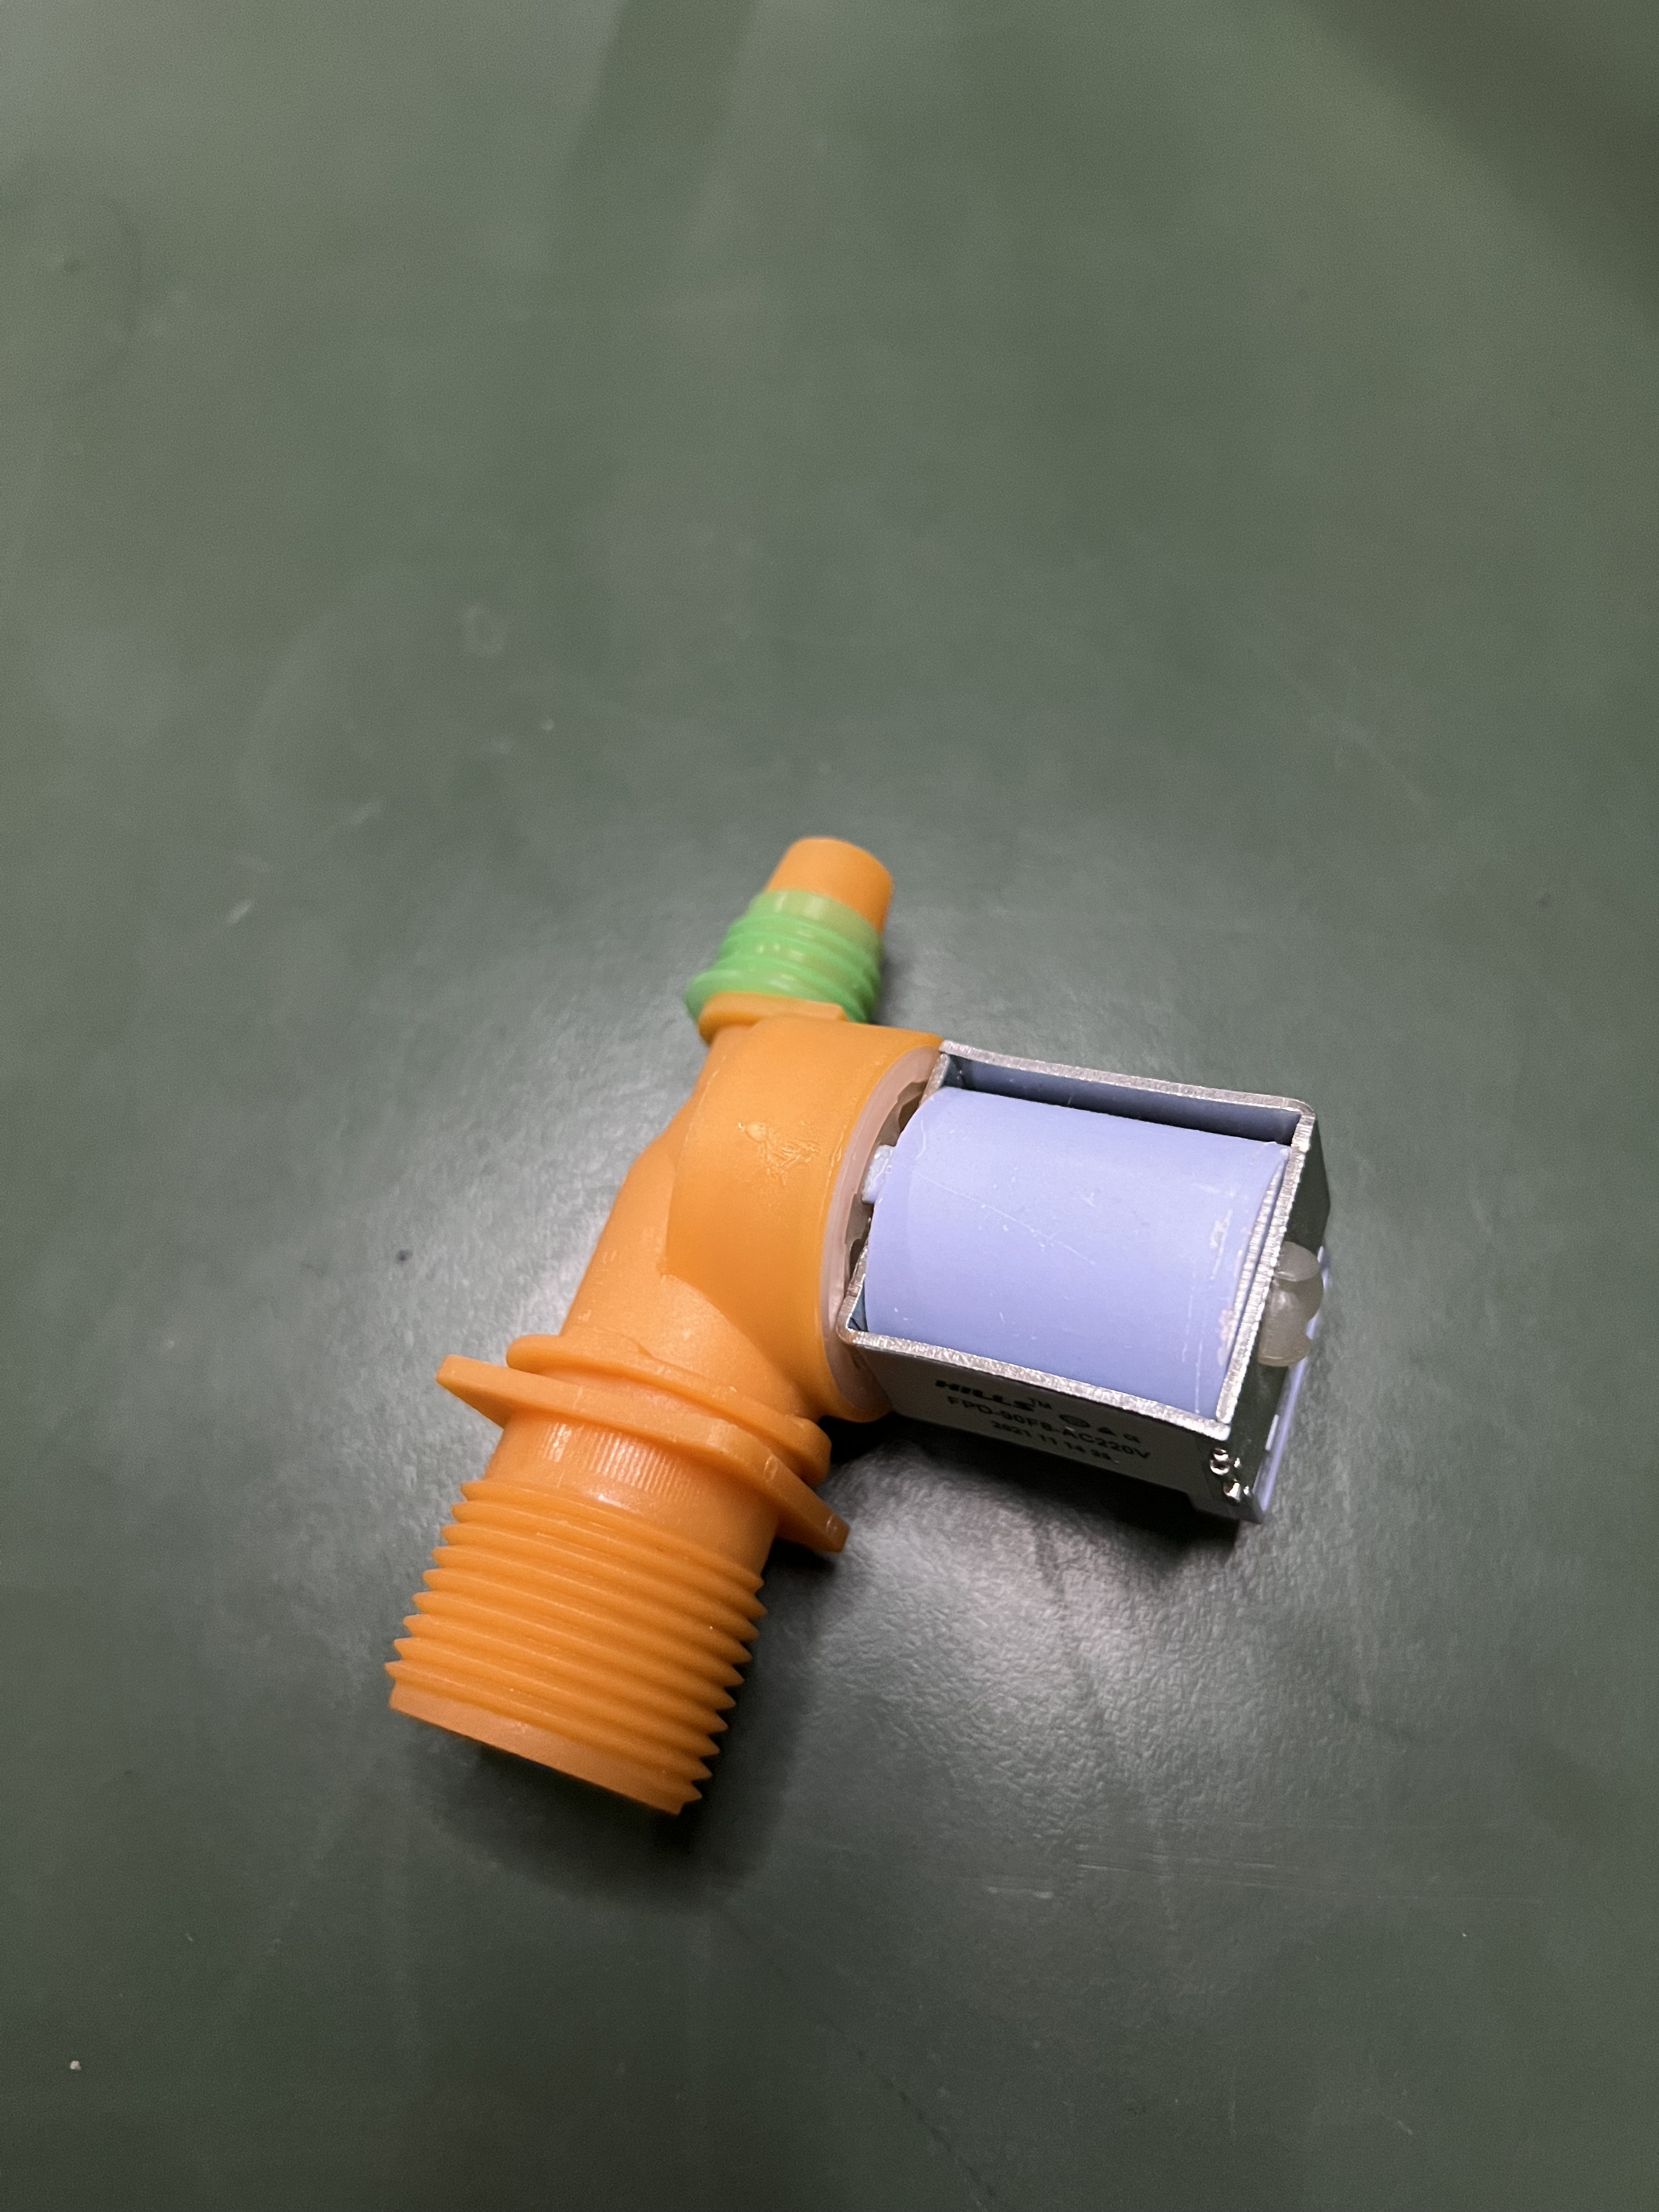ss_inlet_valves: (366, 862, 1420, 1796)
